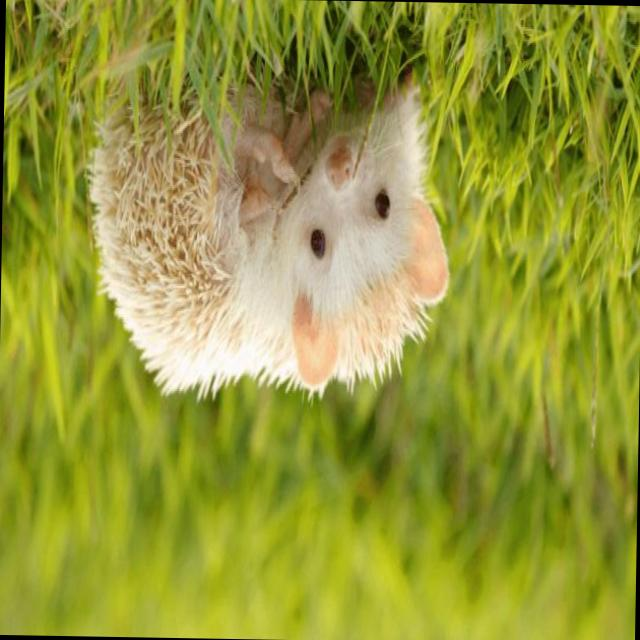Hedgehog: (76, 58, 452, 398)
